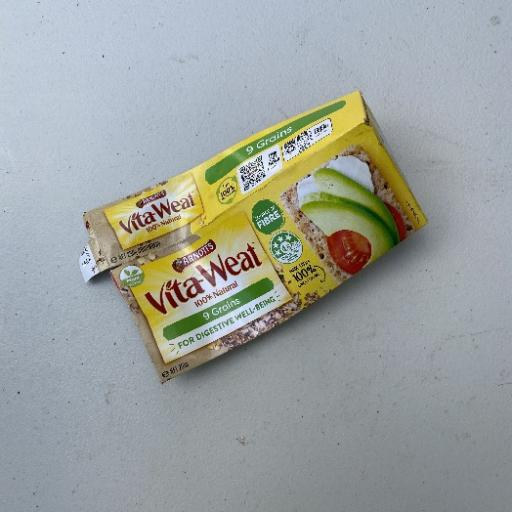Cardboard: (78, 89, 429, 384)
